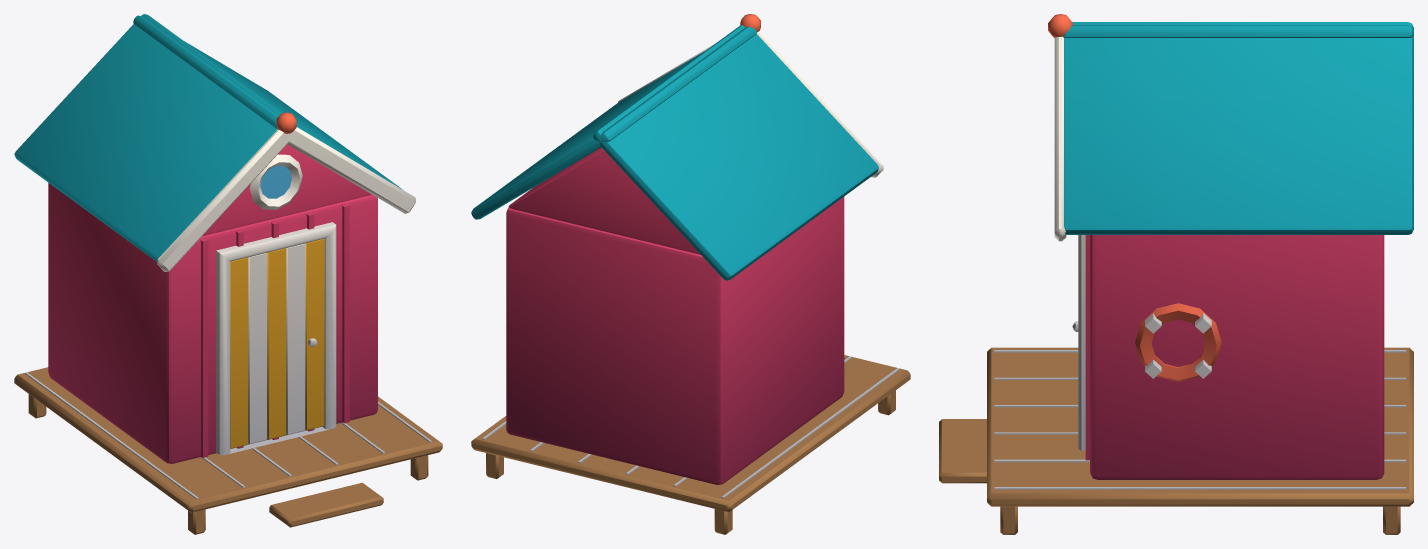
The model's file is beach_hut.glb.
3 views of the same model, side by side, from view 1: azimuth 30°, elevation 25°; view 2: azimuth 150°, elevation 25°; view 3: azimuth 270°, elevation 25° (orthographic). The views are drawn at different scales.
Parts seen in each view (by area): view 1: beach_hut; view 2: beach_hut; view 3: beach_hut.
Boxes of the visible parts, x1,y1,x2,y2 form: beach_hut: (14, 14, 442, 534); beach_hut: (471, 14, 910, 534); beach_hut: (939, 14, 1413, 534).
Size of the model in its own units: 2.43 by 3.39 by 3.23.
